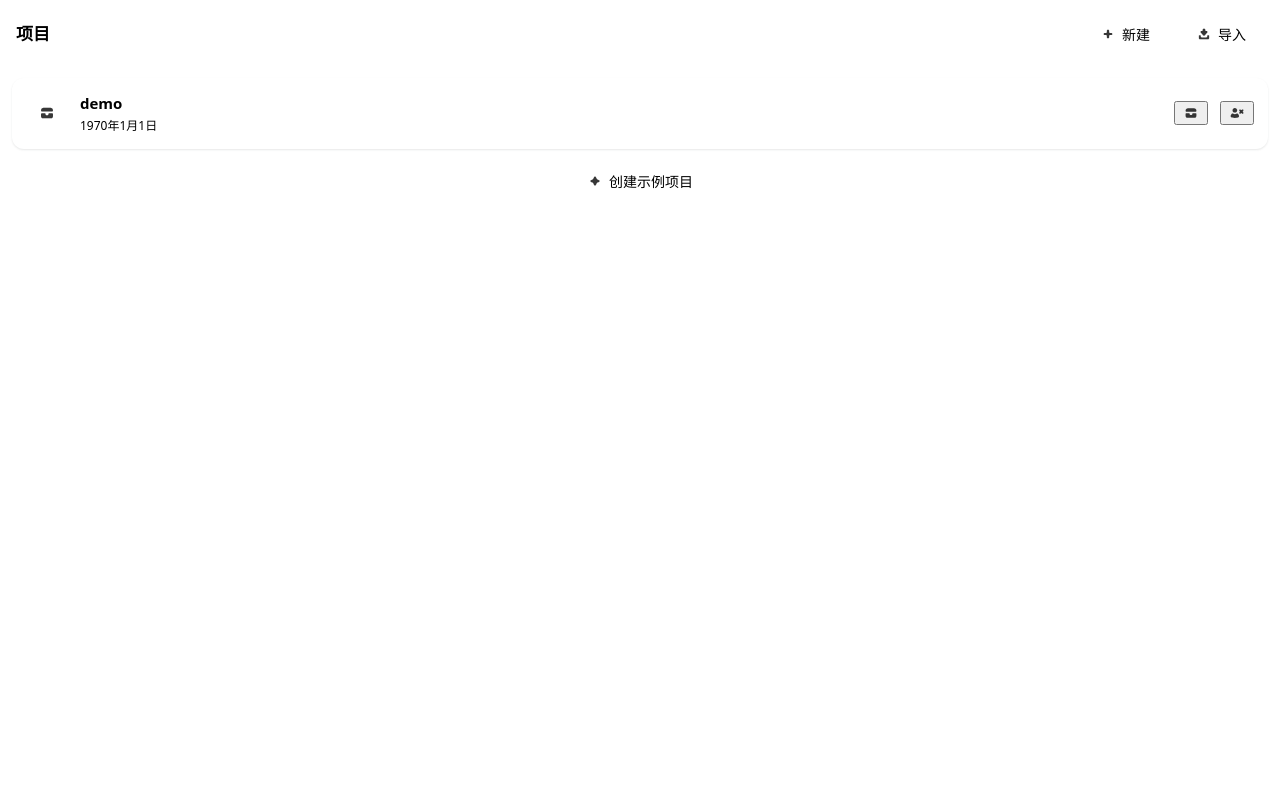
Test: 项目页：空状态与新建 › 名称非法或与已有项目重名时给出错误且不创建
Click the button "新建" at (1125, 34), box [1082, 12, 1168, 56]
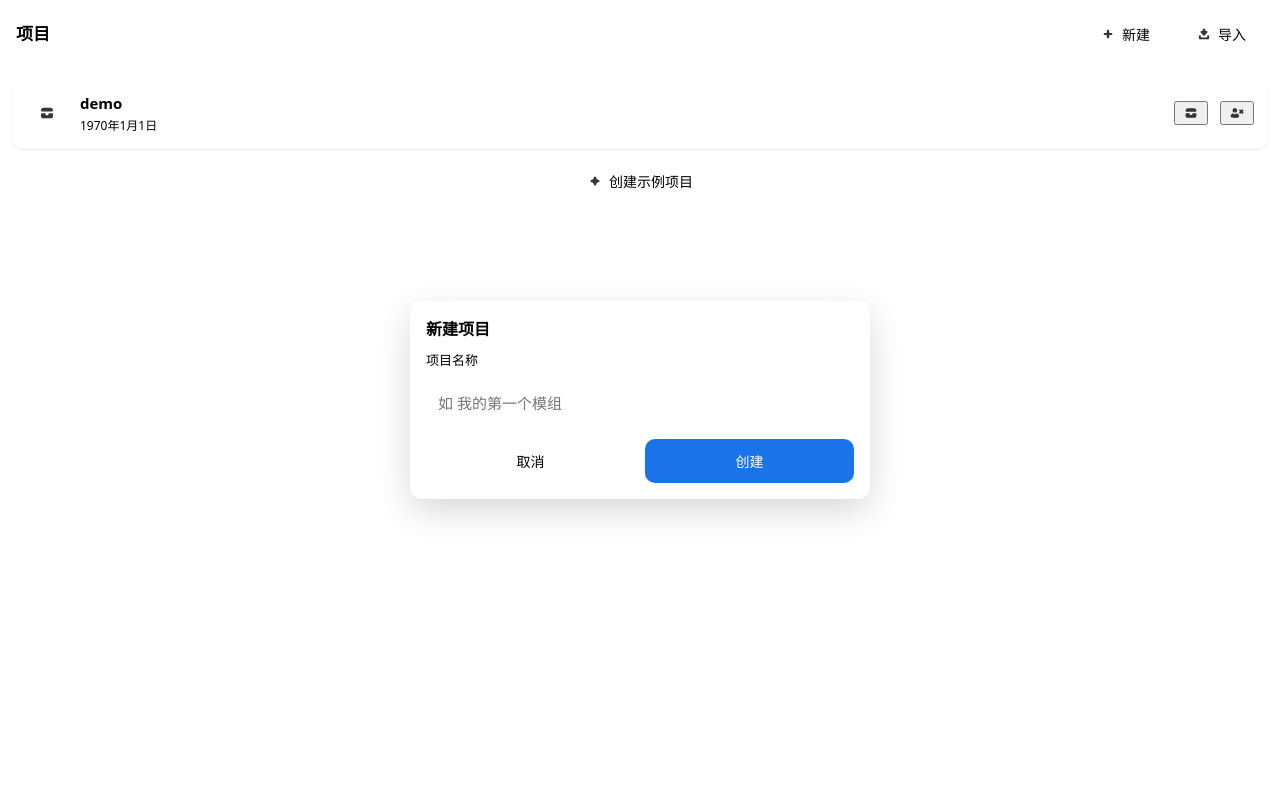
Type "demo" into the field at (640, 403), box [426, 381, 854, 425]
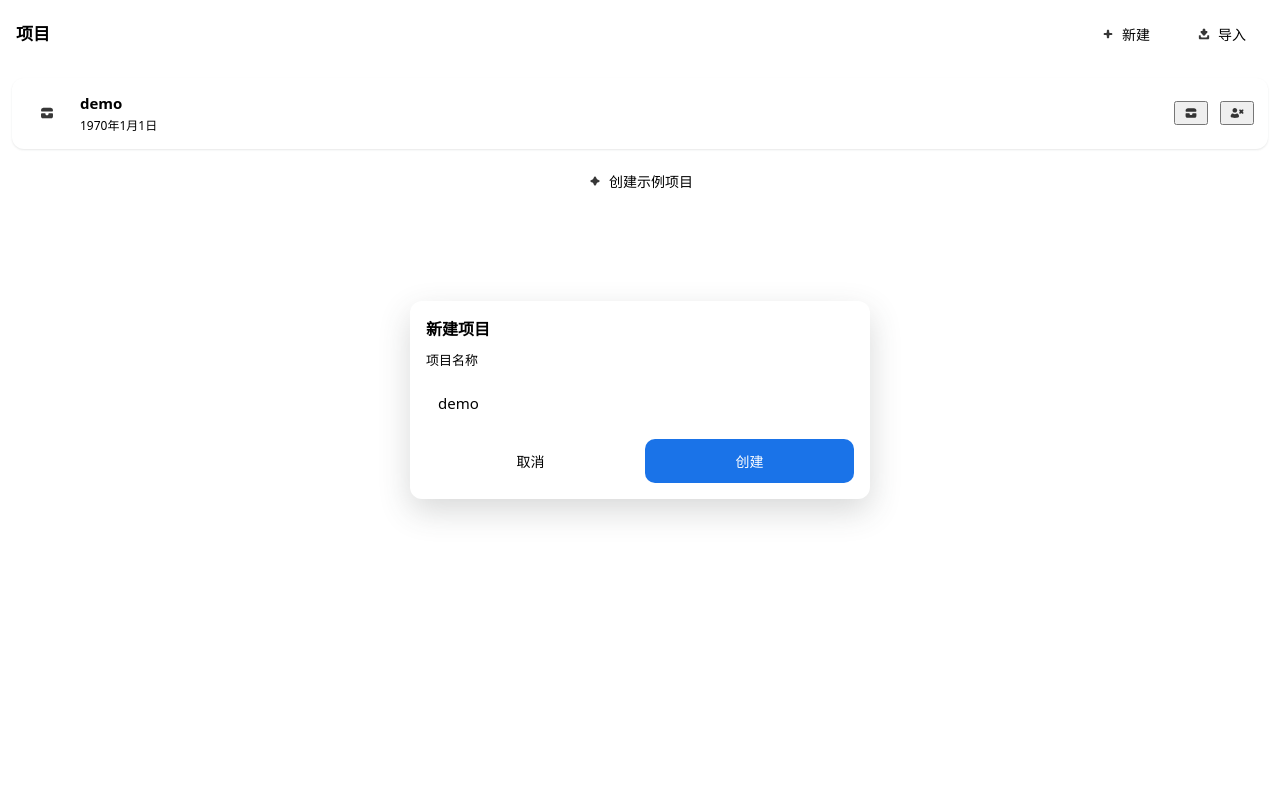
Click the button "创建" at (750, 461), box [645, 439, 854, 483]
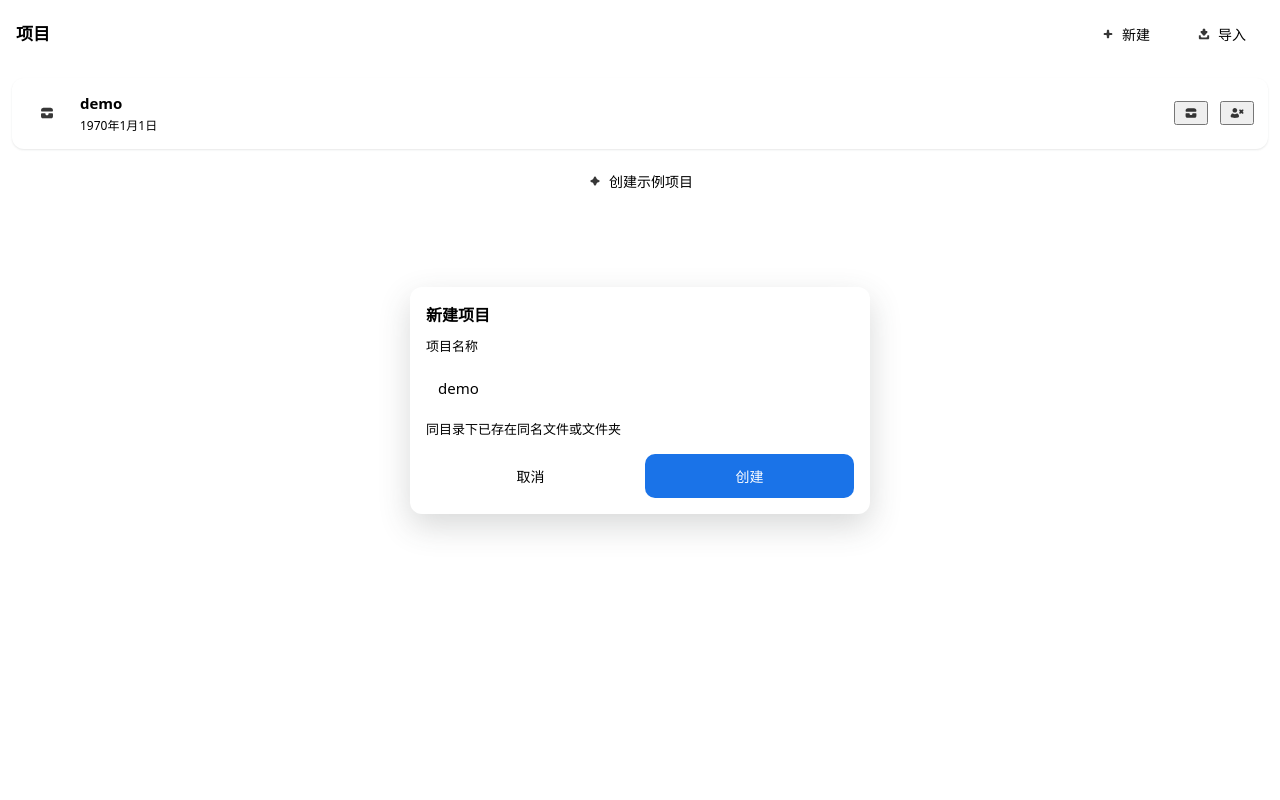
Result: the text "同目录下已存在同名文件或文件夹" is shown at [426, 420, 621, 438]
